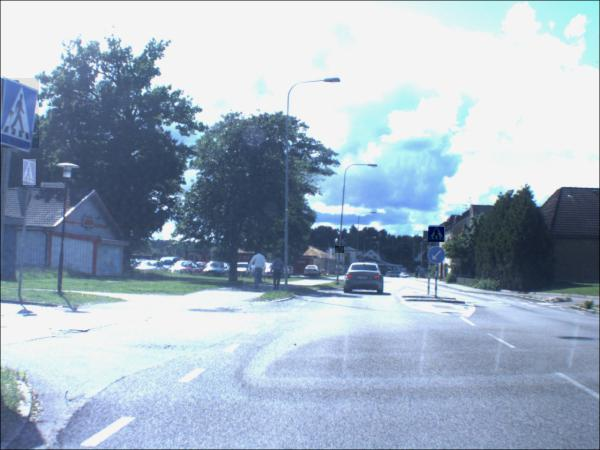PASS_RIGHT_SIDE: (427, 247, 446, 266)
PEDESTRIAN_CROSSING: (2, 79, 40, 150), (23, 160, 37, 187), (428, 228, 445, 244)
PRIORITY_ROAD: (335, 247, 345, 255)
